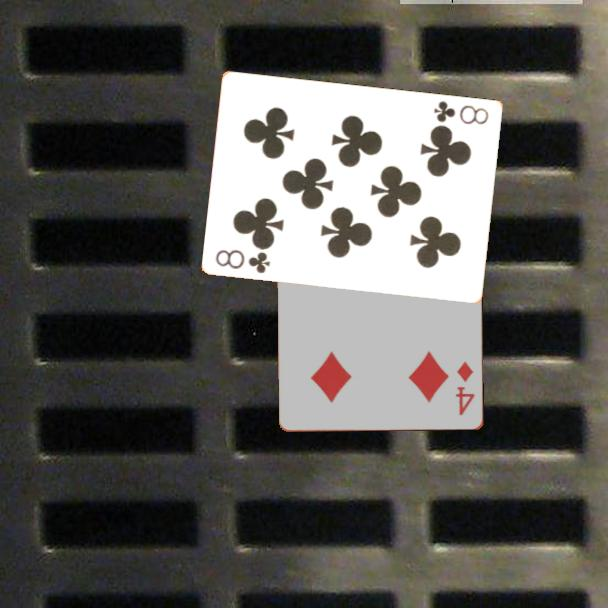c08: (431, 97, 492, 127), (212, 246, 273, 276)
d04: (452, 358, 478, 419)
